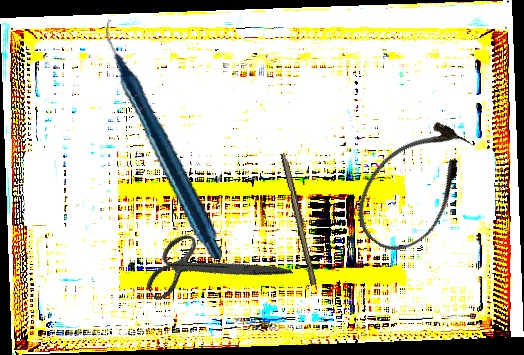Cannula: (340, 106, 489, 267)
Handpiece: (70, 19, 259, 260)
Iris Scissors: (133, 195, 294, 344)
Scalpel Handle: (278, 152, 321, 286)
